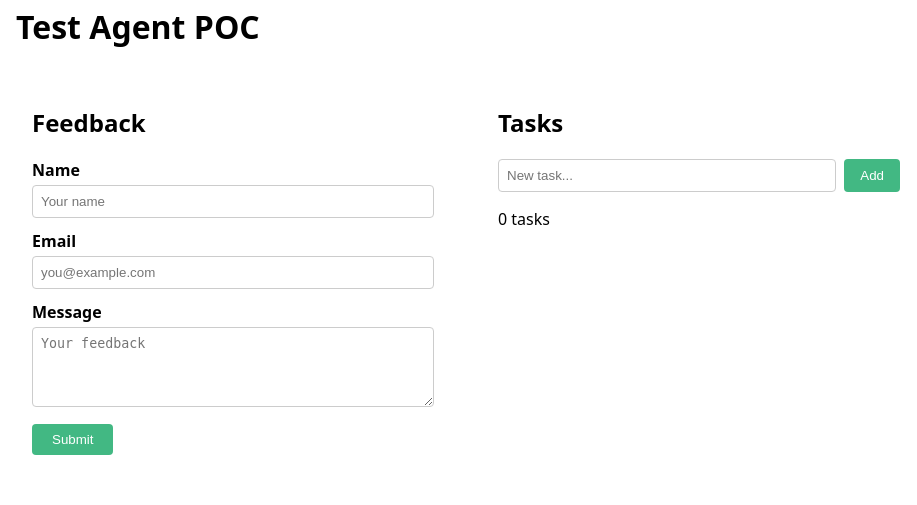
Feedback Form › shows an error when only some fields are filled
Step 1. Type "Bob" into the field with class "name-input" → (233, 202), box [32, 185, 434, 218]
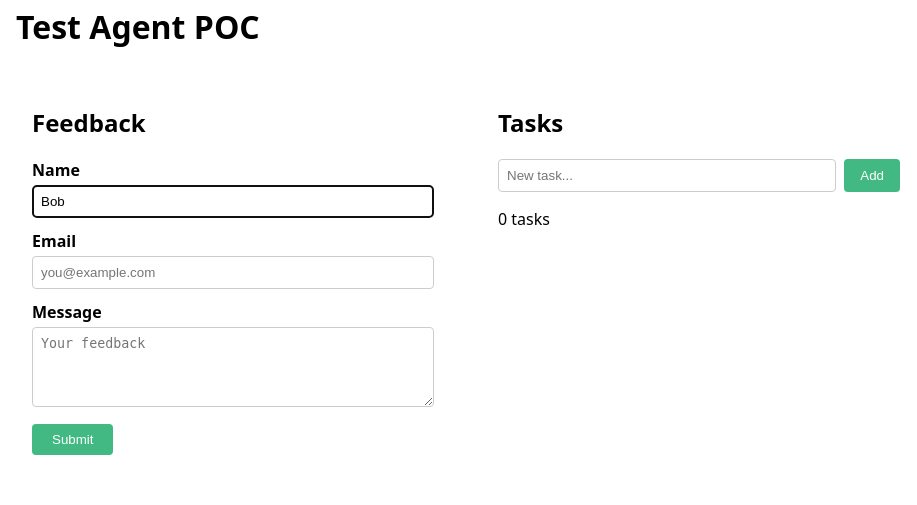
Step 2. Click the button with class "submit-btn" → click(73, 440), box [32, 424, 114, 455]
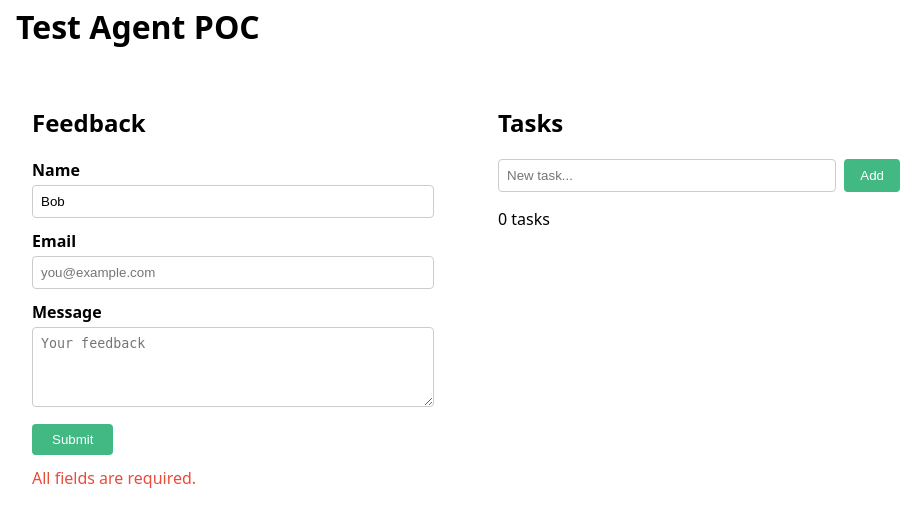
Expected: the text "All fields are required." is shown, [32, 467, 196, 489]
